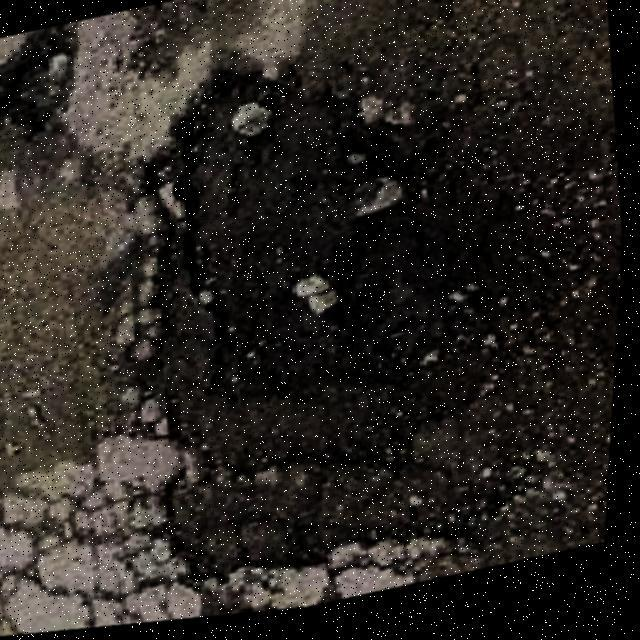pothole: (70, 0, 638, 627), (0, 20, 91, 155)
